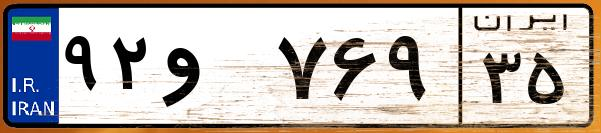2: (110, 28, 158, 98)
3: (475, 38, 525, 113)
5: (525, 38, 570, 115)
6: (330, 28, 385, 110)
7: (270, 28, 330, 110)
9: (385, 28, 445, 110), (57, 26, 110, 100)
و: (158, 20, 270, 120)
